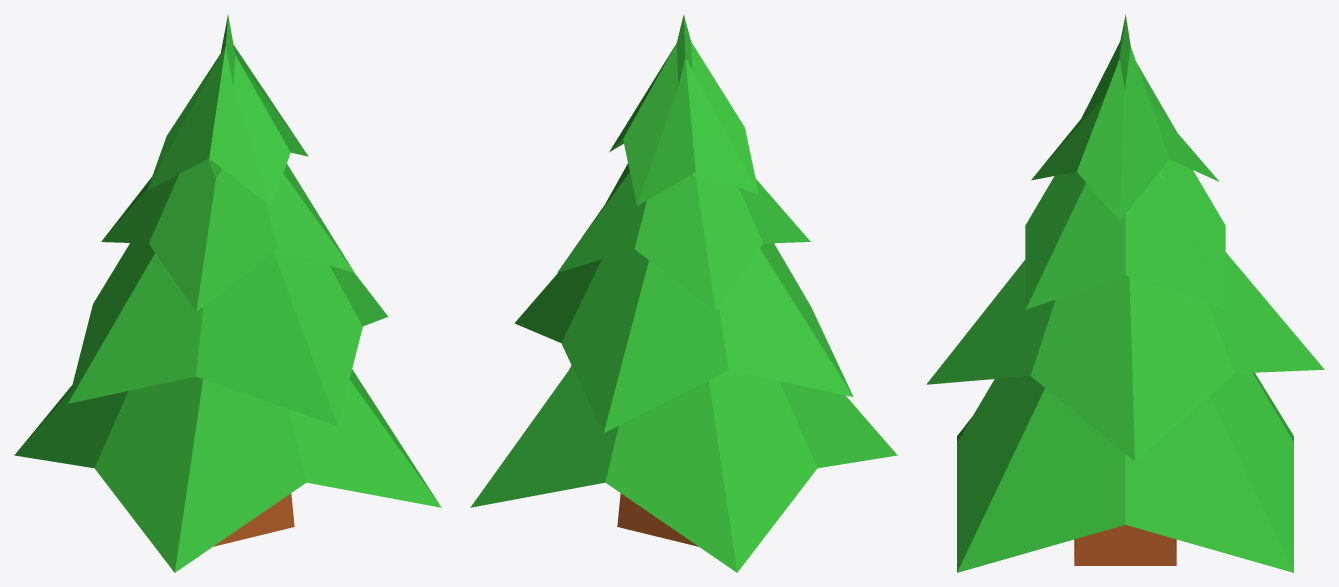
The model's file is grannytree.fbx.
The picture shows the model from 3 angles, left to right: view 1: azimuth 30°, elevation 25°; view 2: azimuth 150°, elevation 25°; view 3: azimuth 270°, elevation 25°; orthographic projection. The views are drawn at different scales.
Visible parts, largest first — view 1: treetop1, treetop2, treetop3, treetop4, trunk; view 2: treetop1, treetop2, treetop3, treetop4, trunk; view 3: treetop1, treetop2, treetop3, treetop4, trunk.
Boxes of the visible parts, x1,y1,x2,y2 form: treetop1: (14,369,441,572); treetop2: (67,243,388,426); treetop3: (101,158,354,311); treetop4: (147,14,308,206); trunk: (213,493,294,546); treetop1: (470,365,897,572); treetop2: (514,243,853,433); treetop3: (557,163,810,311); treetop4: (609,14,758,205); trunk: (617,493,698,546); treetop1: (957,372,1293,572); treetop2: (926,252,1324,461); treetop3: (1025,159,1225,309); treetop4: (1031,15,1219,220); trunk: (1074,525,1176,565).
Bounding box in the file's own units: 781 × 1143 × 779.
